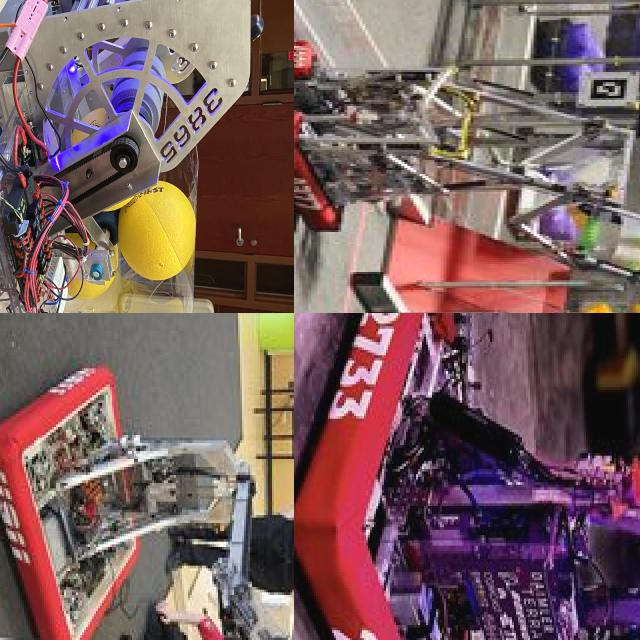FRC-Robots: (294, 313, 640, 640), (294, 38, 640, 313), (0, 0, 269, 313), (0, 343, 224, 640)
